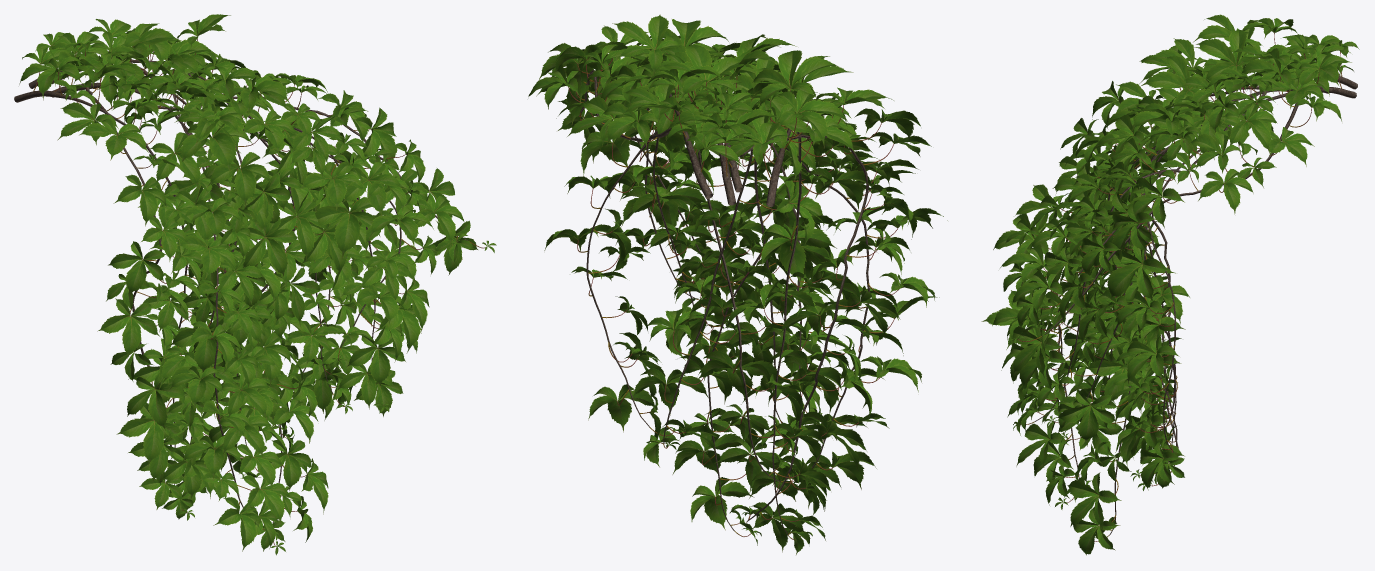
Rendered from Virginia_Creeper_0202.fbx.
The picture shows the model from 3 angles, left to right: view 1: azimuth 30°, elevation 25°; view 2: azimuth 150°, elevation 25°; view 3: azimuth 270°, elevation 25°; orthographic projection. The views are drawn at different scales.
Parts seen in each view (by area): view 1: Virginia_Creeper_0202; view 2: Virginia_Creeper_0202; view 3: Virginia_Creeper_0202.
Boxes of the visible parts, bbox=[...] form: Virginia_Creeper_0202: bbox=[14, 14, 496, 555]; Virginia_Creeper_0202: bbox=[528, 14, 947, 554]; Virginia_Creeper_0202: bbox=[981, 14, 1359, 555].
Size of the model in its own units: 92.56 by 122 by 87.81.
Materials: 3 (3 with a texture image).
